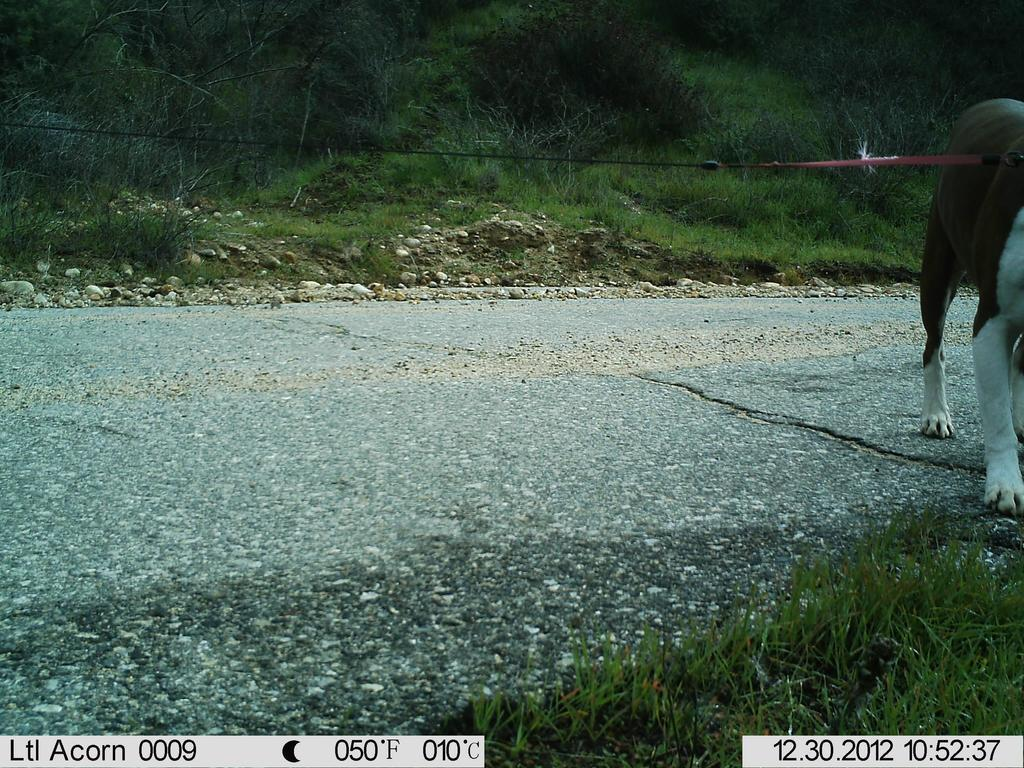dog: (885, 99, 1024, 524)
